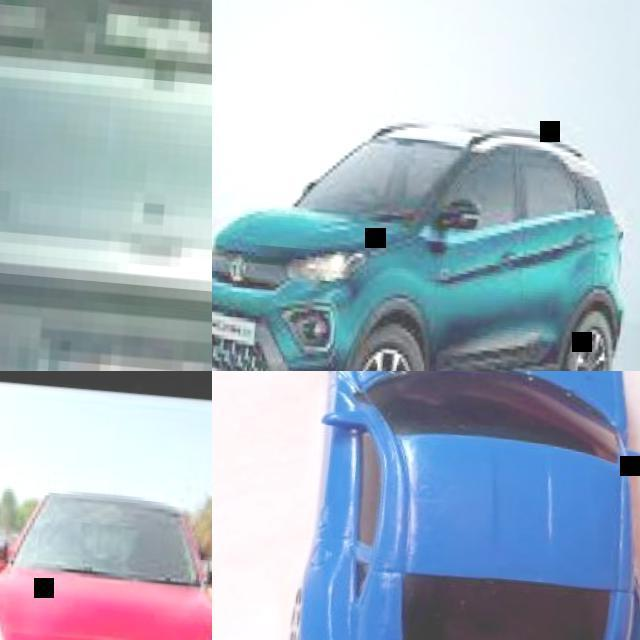car: (211, 0, 633, 392)
